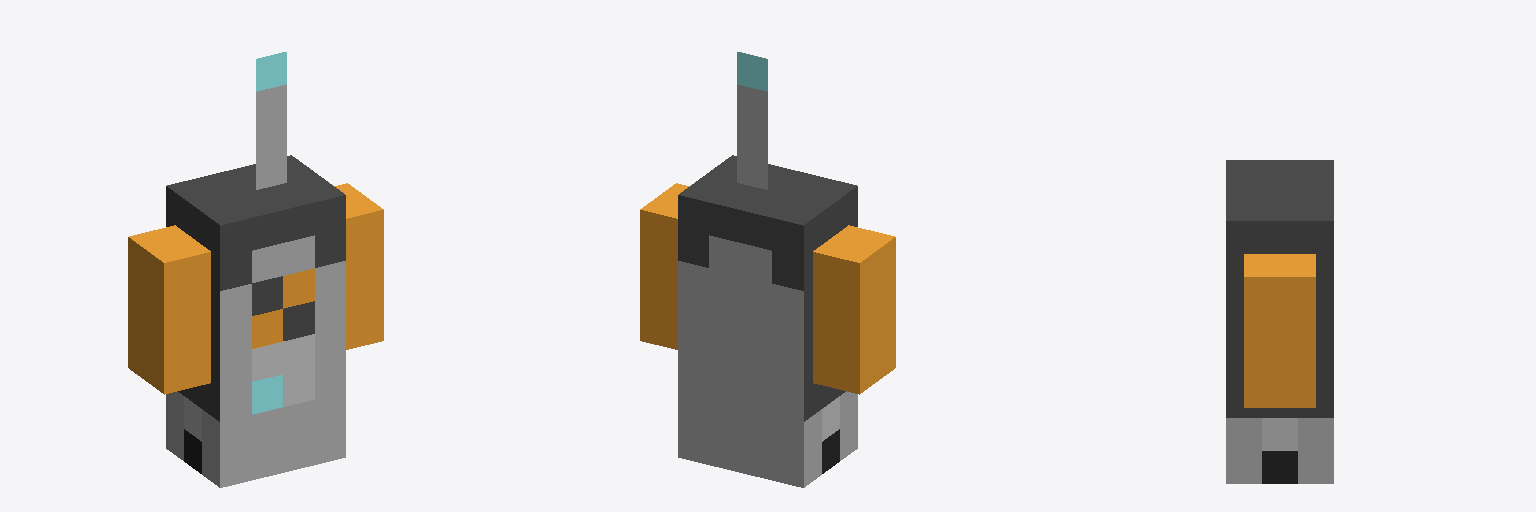
The picture shows the model from 3 angles: view 1: azimuth 30°, elevation 25°; view 2: azimuth 150°, elevation 25°; view 3: azimuth 270°, elevation 25°; orthographic projection.
Parts seen in each view (by area): view 1: cube; view 2: cube; view 3: cube.
Boxes of the visible parts, x1,y1,x2,y2 form: cube: [128, 52, 383, 487]; cube: [640, 52, 895, 487]; cube: [1226, 160, 1333, 483].
Bounding box in the file's own units: 0.4375 × 0.75 × 0.1875.
Materials: 1 (1 with a texture image).